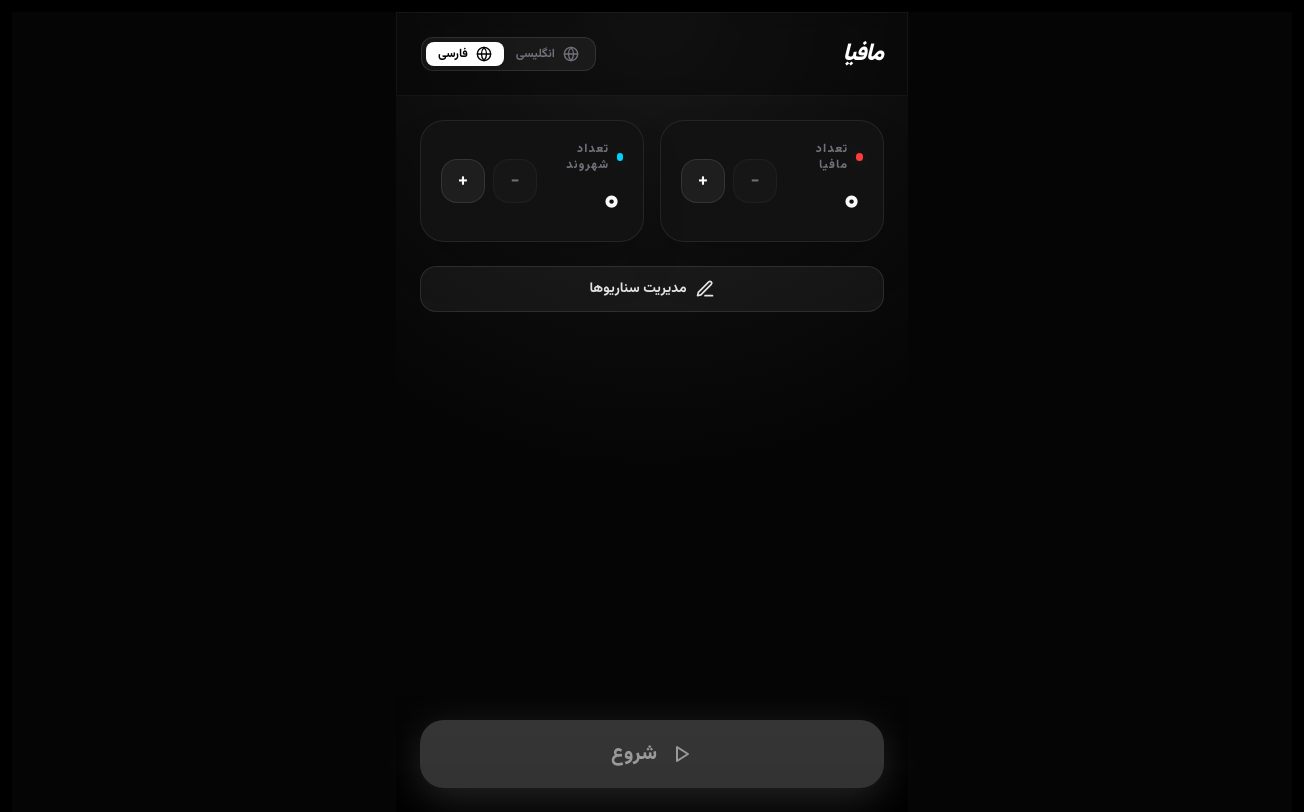
Test: Scenario Management › deletes a scenario with confirmation
The image size is (1304, 812).
Step 1. Click the button "مدیریت سناریوها" → click(652, 289), box [420, 266, 884, 312]
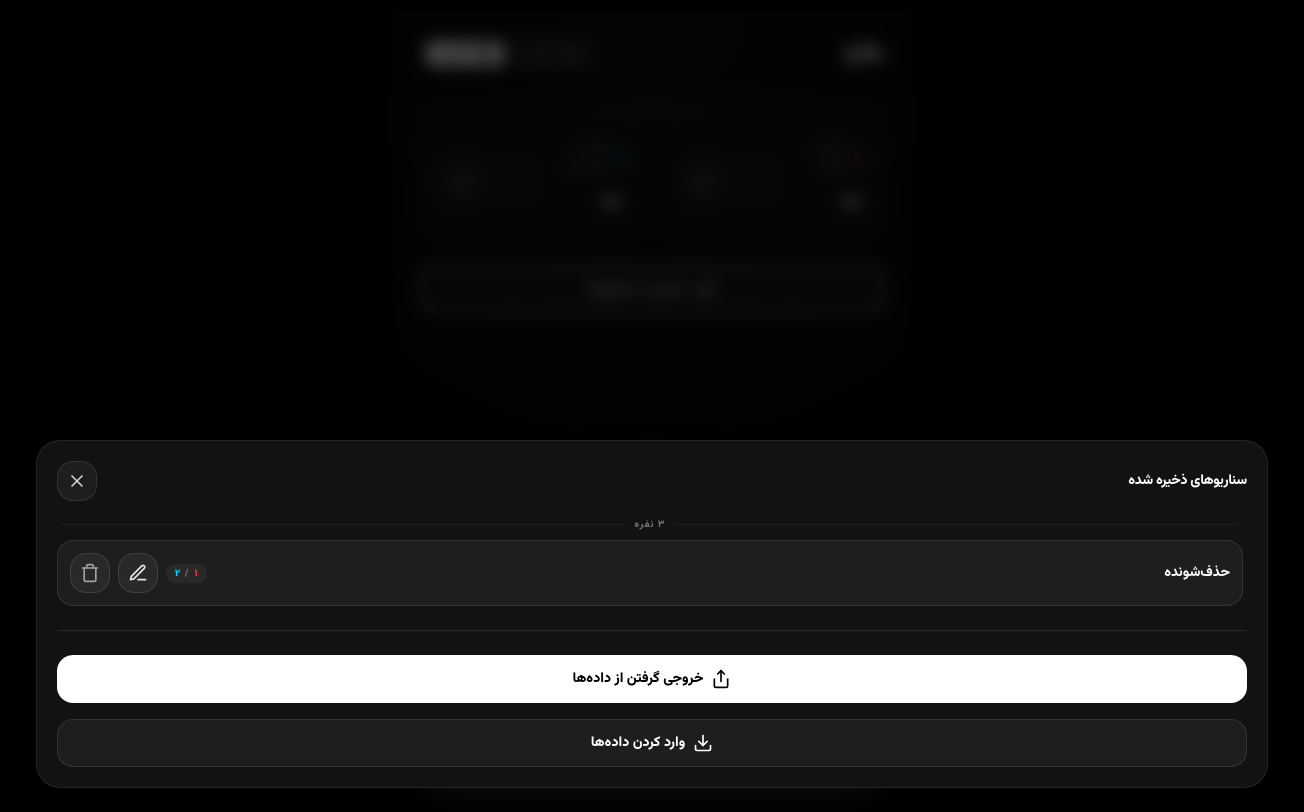
expect the text "حذف‌شونده" is shown: met, box [1164, 563, 1230, 583]
Step 2. Click the button named "حذف" → click(90, 573), box [70, 553, 110, 593]
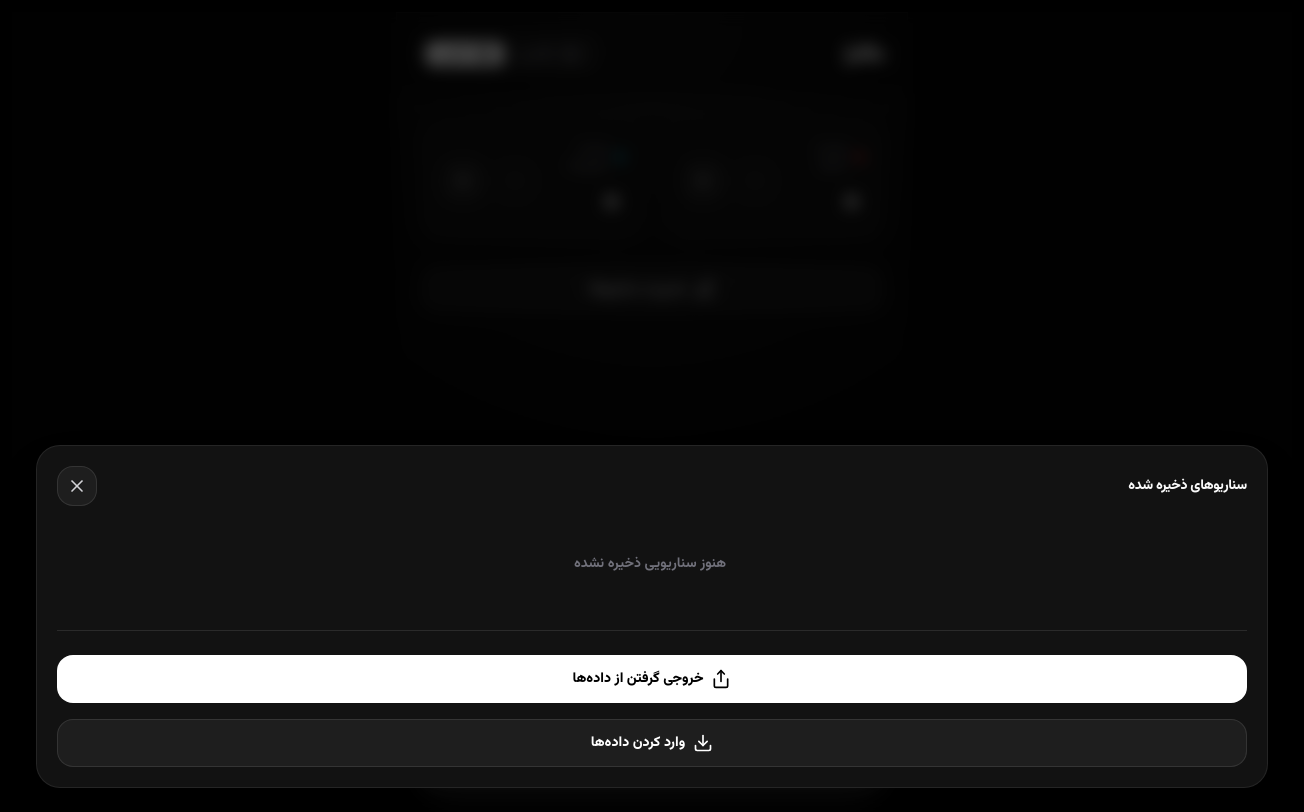
expect the button "حذف‌شونده" is gone: met
